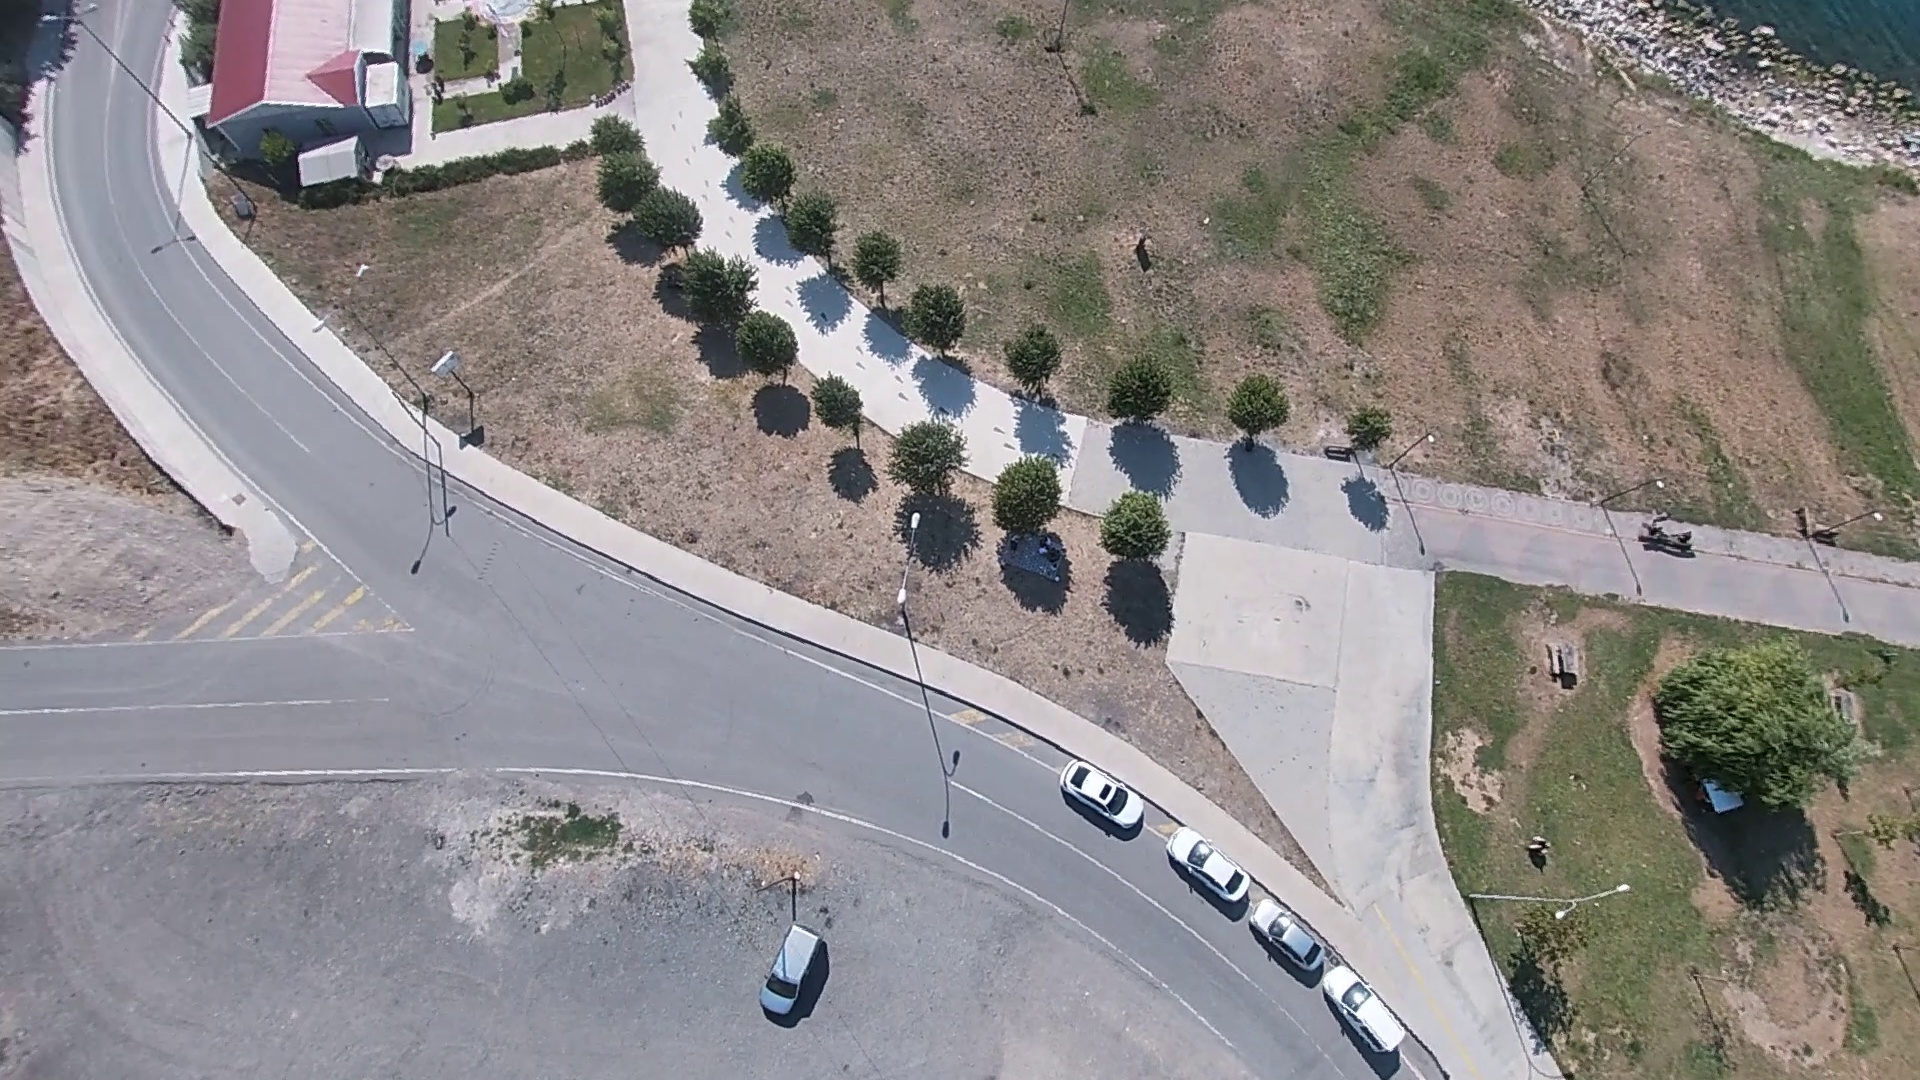arac: (757, 917, 822, 1019), (1060, 759, 1145, 833)
insan: (1525, 838, 1552, 876), (1130, 233, 1153, 276)
